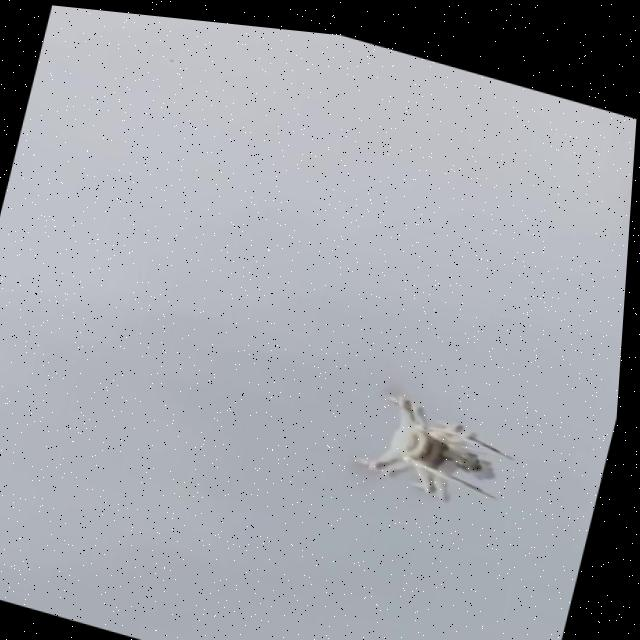drones: (336, 364, 541, 521)
